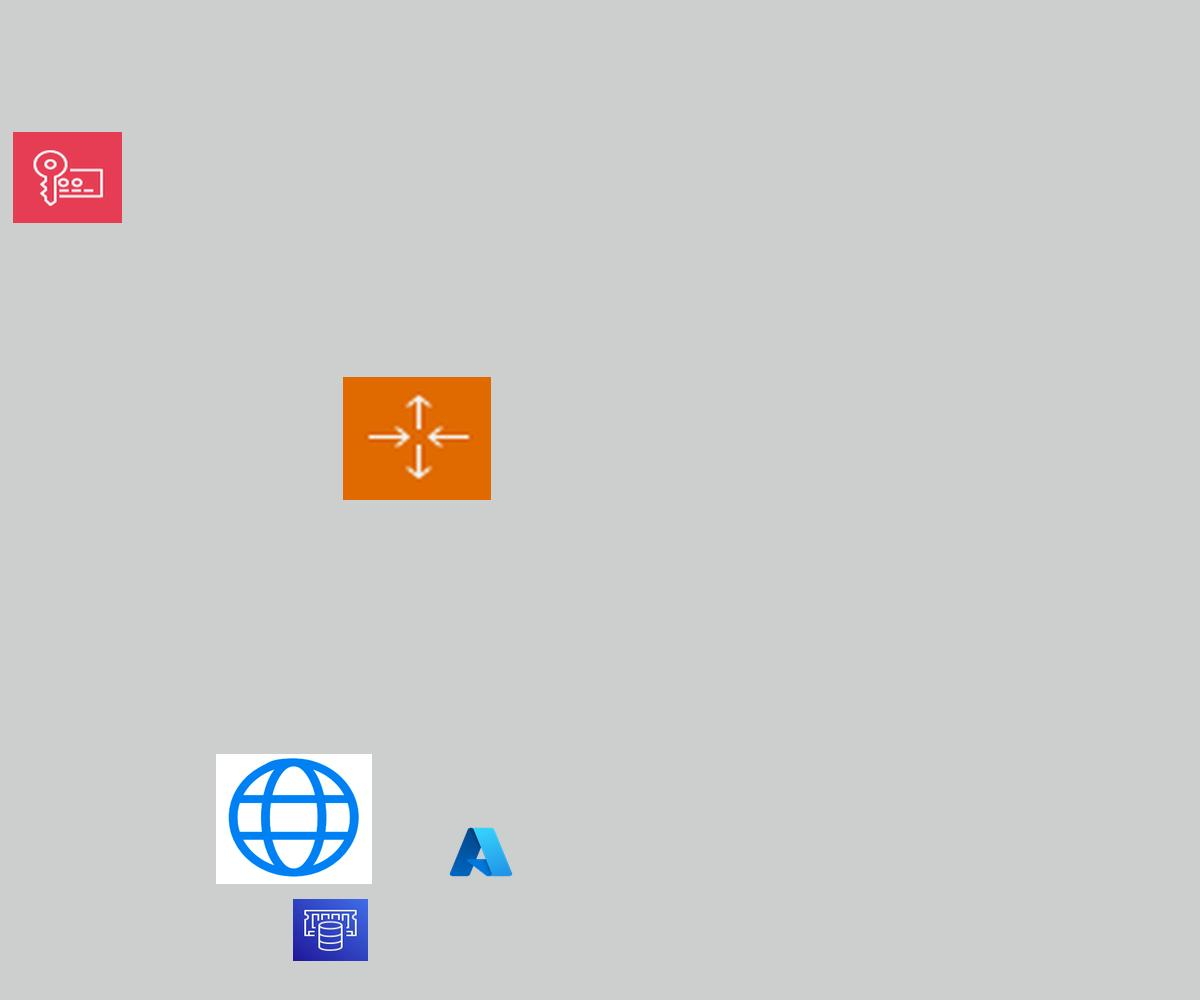AWS-ElastiCache: (293, 899, 368, 961)
AWS-Key-Management-Service: (13, 132, 122, 223)
AWS-Scaling-group: (343, 377, 491, 500)
Azure_http: (216, 754, 372, 884)
Azure_services: (447, 824, 515, 880)
